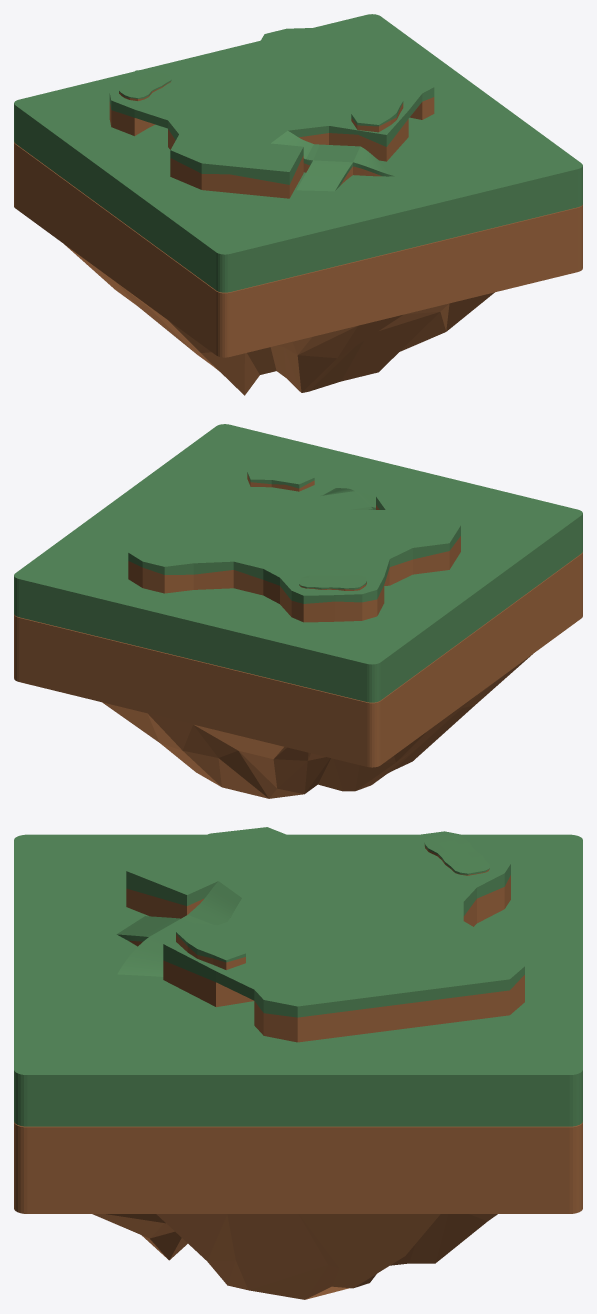
Rendered from lowPolyIsland.glb.
3 views of the same model, one above another, from view 1: azimuth 30°, elevation 25°; view 2: azimuth 150°, elevation 25°; view 3: azimuth 270°, elevation 25° (orthographic). The views are drawn at different scales.
Parts seen in each view (by area): view 1: Grass.001, Island, islandSecondLevel.001, islandThirdLevel, islandThirdLevel2; view 2: Grass.001, Island, islandSecondLevel.001, islandThirdLevel, islandThirdLevel2; view 3: Grass.001, Island, islandSecondLevel.001, islandThirdLevel, islandThirdLevel2.
Boxes of the visible parts, x1,y1,x2,y2 form: Grass.001: (14,14,582,292); Island: (14,142,582,395); islandSecondLevel.001: (109,28,434,198); islandThirdLevel: (351,98,403,132); islandThirdLevel2: (119,72,171,100); Grass.001: (14,424,582,702); Island: (14,552,582,798); islandSecondLevel.001: (128,476,460,622); islandThirdLevel: (247,467,314,491); islandThirdLevel2: (299,575,366,590); Grass.001: (14,834,582,1126); Island: (14,1122,582,1299); islandSecondLevel.001: (117,827,524,1042); islandThirdLevel: (176,923,245,969); islandThirdLevel2: (424,835,489,875).
Size of the model in its own units: 2001 by 1323 by 2000.
